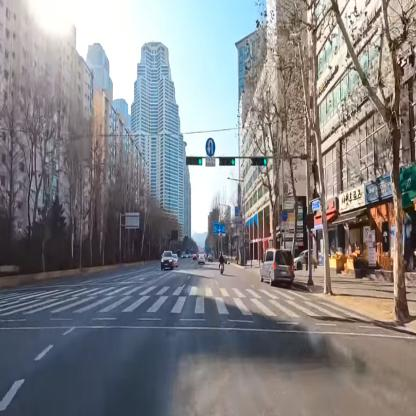Green: (185, 153, 202, 167), (219, 156, 235, 167), (252, 158, 267, 168)
